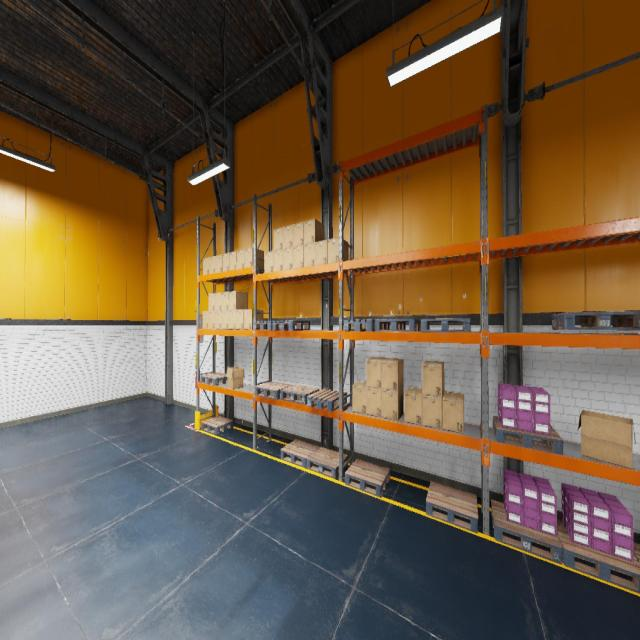box: (578, 410, 635, 469), (442, 391, 463, 433), (422, 392, 444, 429), (423, 361, 444, 396), (382, 386, 403, 421), (404, 387, 422, 425), (382, 358, 403, 390), (367, 357, 387, 389), (328, 237, 348, 263), (304, 219, 324, 244), (352, 381, 367, 414), (366, 387, 382, 417), (244, 247, 264, 269), (226, 366, 245, 389), (244, 309, 263, 329), (229, 291, 247, 310), (315, 239, 327, 265), (304, 242, 314, 267), (293, 222, 303, 246), (273, 227, 283, 251), (293, 245, 303, 268), (283, 225, 293, 248), (283, 247, 293, 270), (273, 249, 283, 271), (264, 250, 273, 272), (236, 309, 244, 329), (228, 310, 236, 329), (222, 252, 229, 272), (237, 249, 244, 268), (230, 251, 237, 270), (215, 254, 222, 273), (208, 311, 215, 329), (222, 310, 228, 329), (215, 310, 221, 329), (222, 291, 228, 310), (215, 292, 221, 311), (209, 255, 215, 274), (208, 293, 214, 311), (202, 311, 208, 328), (203, 258, 209, 274)
pallets: (557, 519, 640, 593), (491, 500, 562, 564), (493, 416, 563, 455), (426, 481, 478, 533), (345, 459, 390, 497), (551, 311, 640, 330), (306, 447, 348, 479), (281, 439, 319, 468), (307, 389, 347, 411), (280, 385, 320, 404), (421, 318, 471, 332), (255, 382, 292, 399), (201, 416, 233, 434), (374, 319, 420, 331), (344, 319, 374, 331), (253, 320, 288, 330), (272, 321, 310, 330), (200, 373, 228, 385), (633, 542, 640, 562)
